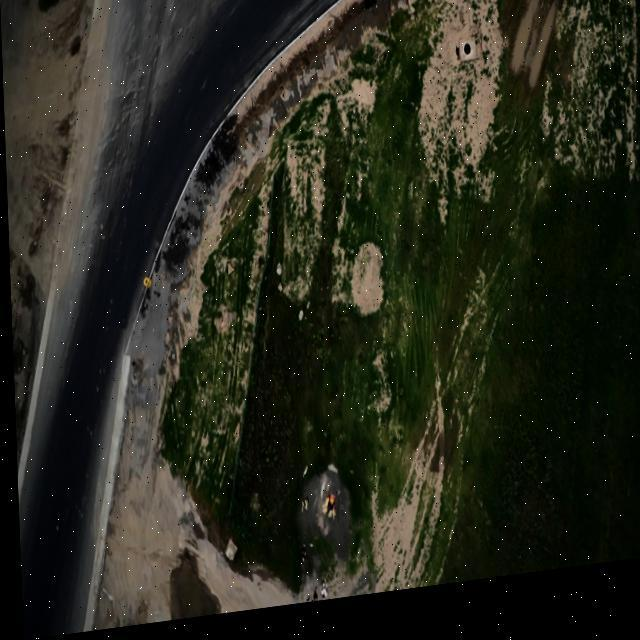Fire: (311, 488, 342, 531)
